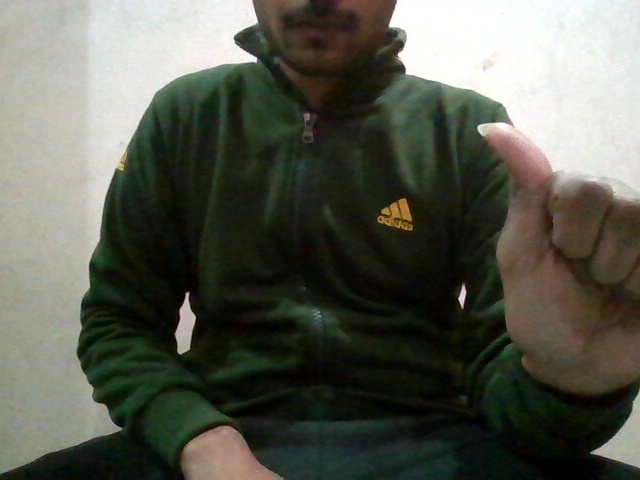A: (470, 121, 640, 403)
